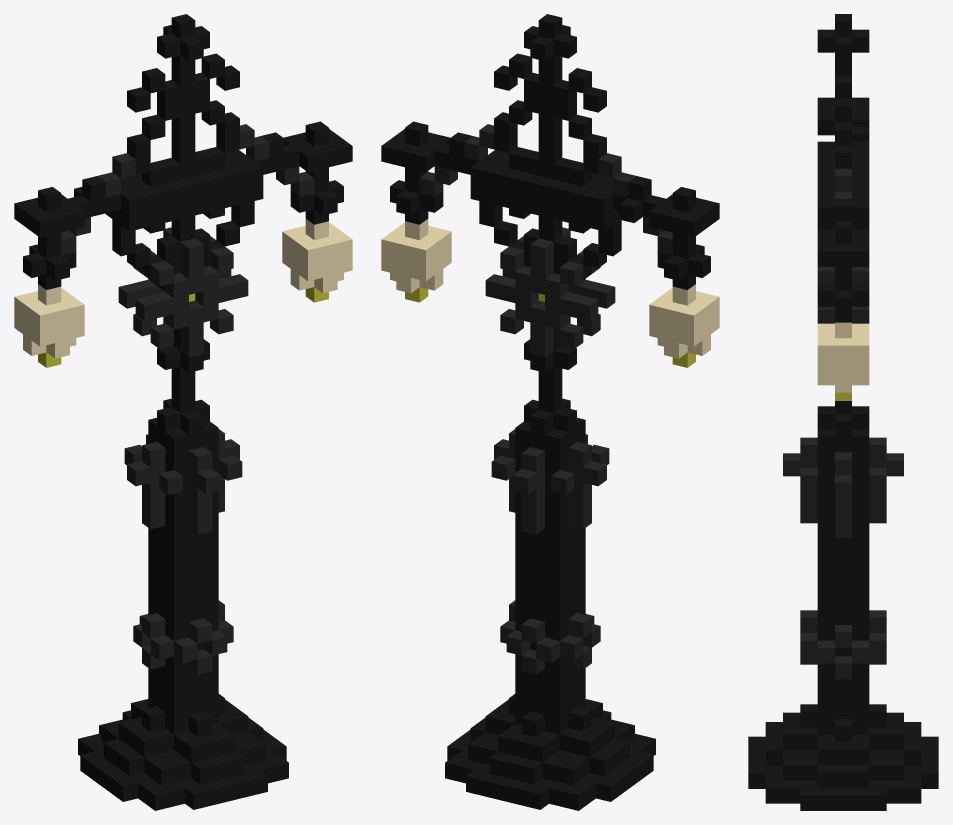
The model's file is galodung.obj.
3 renders of one model, left to right at view 1: azimuth 30°, elevation 25°; view 2: azimuth 150°, elevation 25°; view 3: azimuth 270°, elevation 25°, orthographic.
Parts seen in each view (by area): view 1: galodung; view 2: galodung; view 3: galodung.
Boxes of the visible parts, box(x1,y1,x2,y2) form: galodung: box(14, 14, 352, 810); galodung: box(381, 14, 719, 810); galodung: box(748, 14, 938, 810).
Bounding box in the file's own units: 21 × 48 × 11.
1 material, 1 textured.
